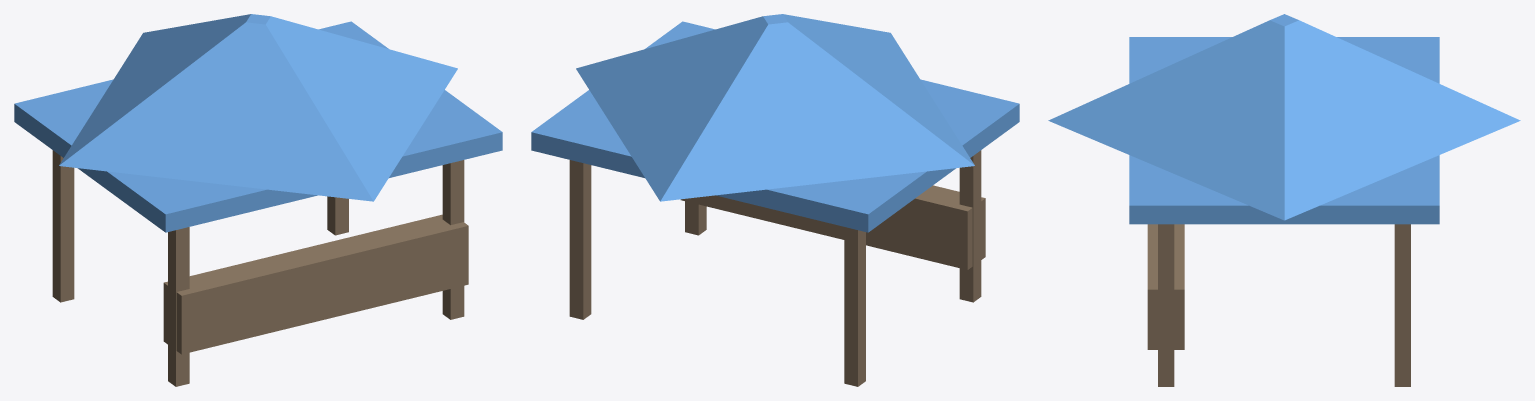
File: shop.gltf
The picture shows the model from 3 angles, left to right: view 1: azimuth 30°, elevation 25°; view 2: azimuth 150°, elevation 25°; view 3: azimuth 270°, elevation 25°; orthographic projection. The views are drawn at different scales.
Visible parts, largest first — view 1: wildlands-prop; view 2: wildlands-prop; view 3: wildlands-prop.
Boxes of the visible parts, x1,y1,x2,y2 form: wildlands-prop: [14, 14, 502, 386]; wildlands-prop: [531, 14, 1019, 386]; wildlands-prop: [1048, 14, 1520, 386].
Size of the model in its own units: 6.4 by 4.4 by 6.4.
